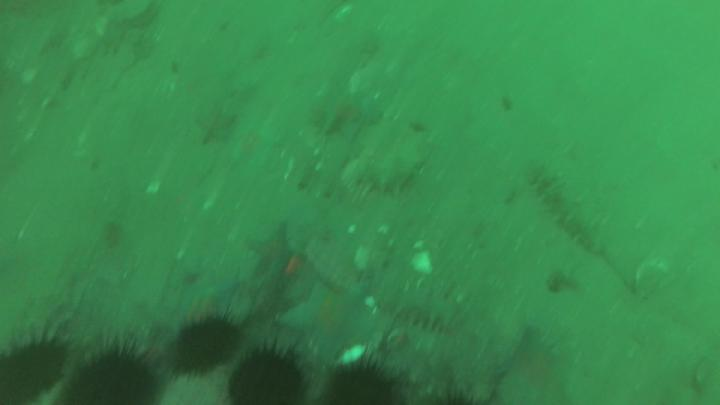echinus: (68, 357, 159, 405), (229, 351, 307, 403), (2, 346, 65, 405), (173, 321, 239, 375), (323, 370, 397, 405)
holothurian: (525, 163, 608, 254), (380, 289, 463, 336), (351, 158, 412, 193)
scallop: (633, 256, 670, 297)
starfish: (284, 279, 378, 351), (176, 277, 240, 323), (246, 224, 294, 276)
